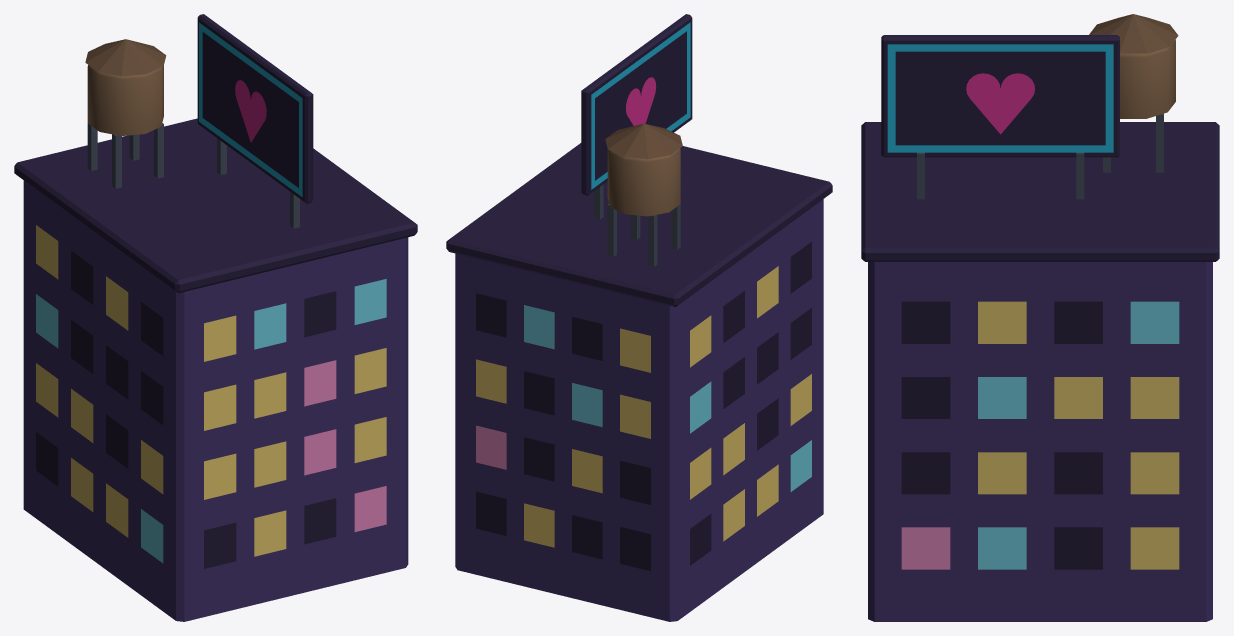
Rendered from neon-deco3.glb.
3 views of the same model, side by side, from view 1: azimuth 30°, elevation 25°; view 2: azimuth 150°, elevation 25°; view 3: azimuth 270°, elevation 25° (orthographic). The views are drawn at different scales.
Visible parts, largest first — view 1: neon-deco3; view 2: neon-deco3; view 3: neon-deco3.
Part boxes in pixels (x1=…): neon-deco3: x1=14, y1=14, x2=417, y2=621; neon-deco3: x1=446, y1=14, x2=832, y2=621; neon-deco3: x1=861, y1=14, x2=1219, y2=621.
Bounding box in the file's own units: 2.3 × 4.45 × 2.7.
